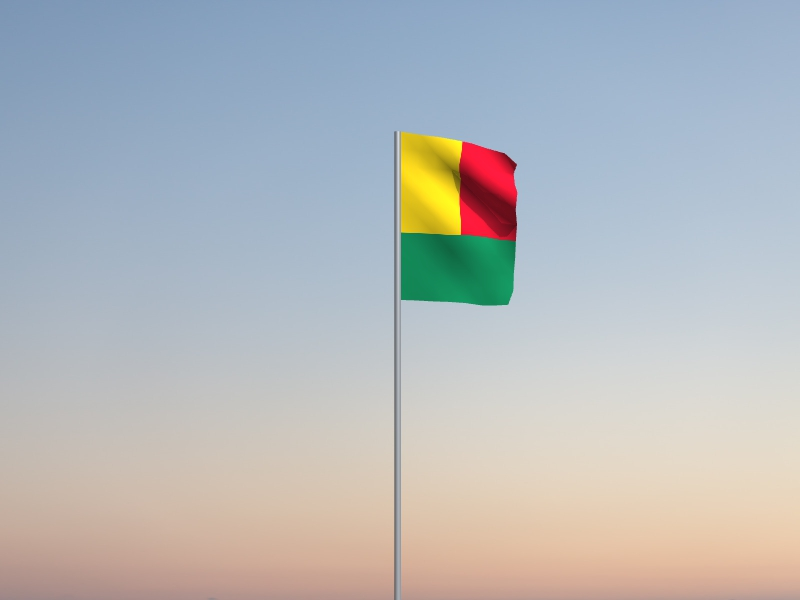bj: (400, 131, 518, 308)
